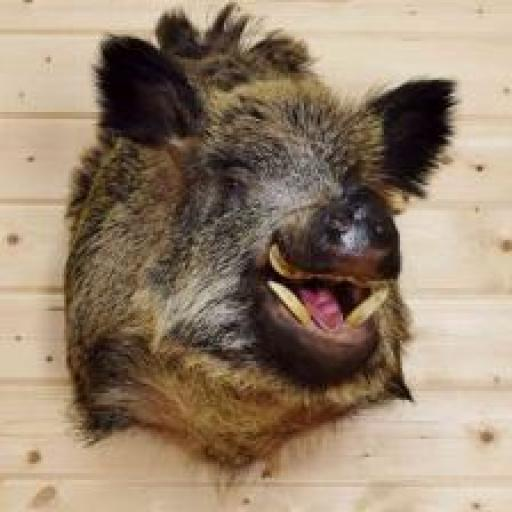Pig: (64, 2, 458, 470)
